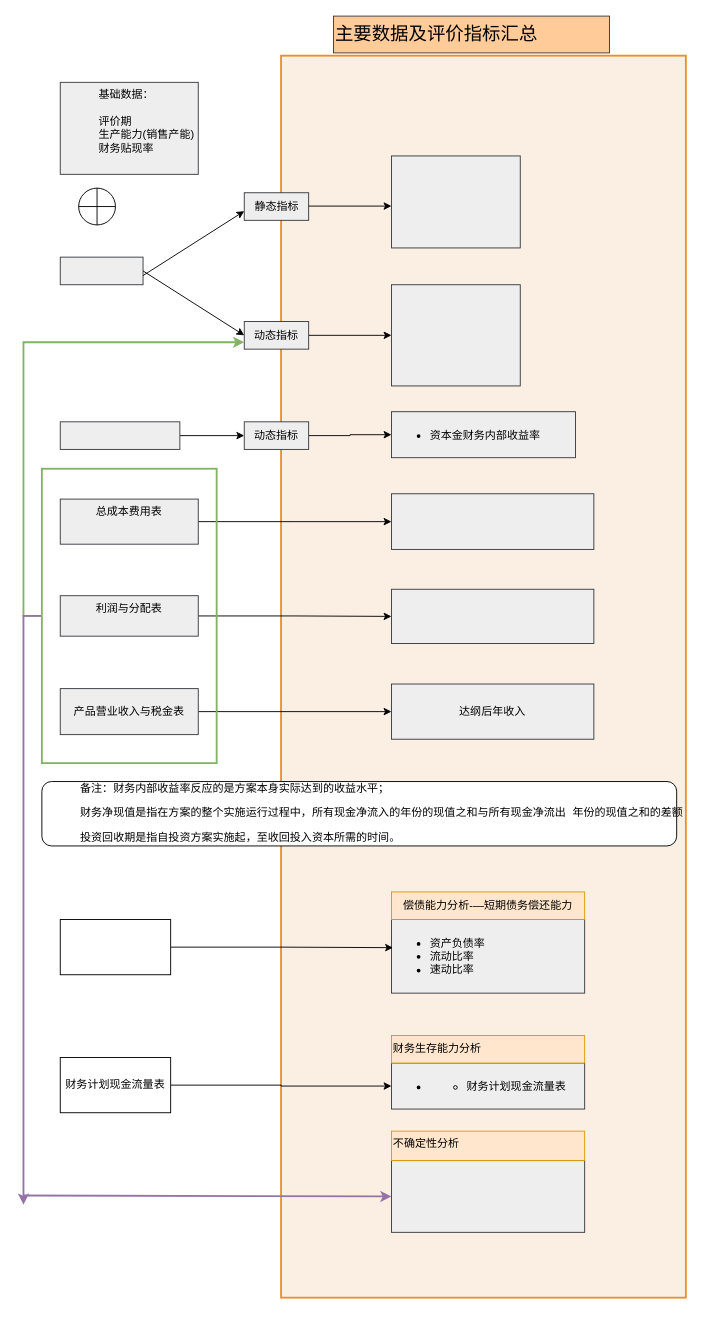
This 702x1321 diagram has some shape labels left out. The centre of each missing label's shape, as x and y in pixels:
"内部收益率 净现值 投资回收期" belongs at point 455,335.
"利润总额 年净利润" belongs at point 492,616.
"总成本费用 经营成本" belongs at point 492,521.
"总投资收益率 投资利润率 资本金净利润率" belongs at point 455,201.
"现金流量表" belongs at point 101,270.
"盈亏平衡点 敏感性分析" belongs at point 488,1196.
"资产负债表" belongs at point 115,947.
"资本金现金流量表" belongs at point 119,435.
